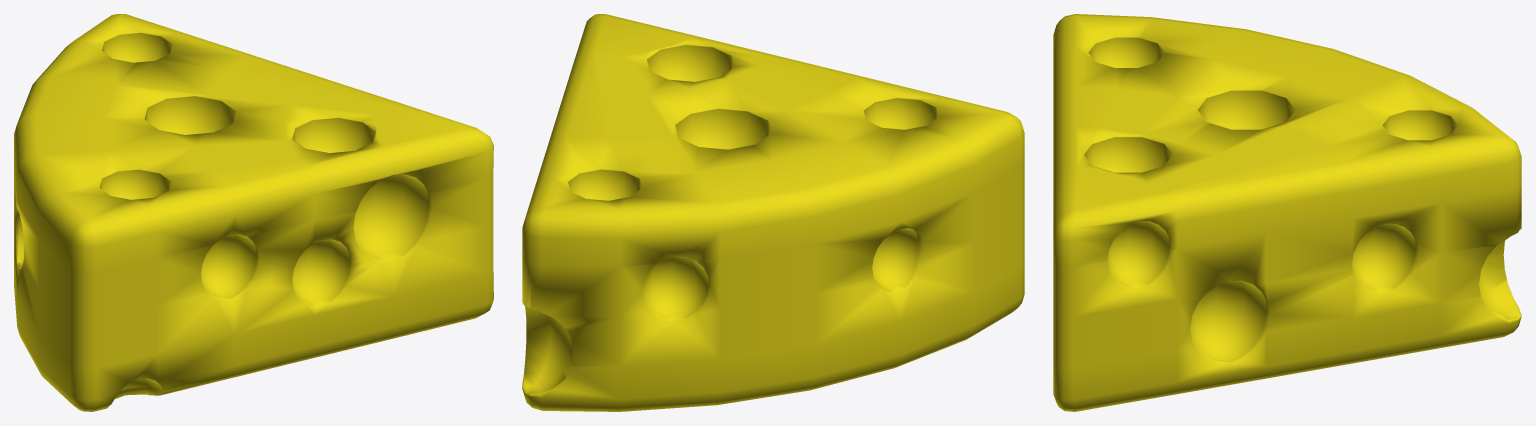
Rendered from cheese.glb.
3 renders of one model, left to right at view 1: azimuth 30°, elevation 25°; view 2: azimuth 150°, elevation 25°; view 3: azimuth 270°, elevation 25°, orthographic. The views are drawn at different scales.
Parts seen in each view (by area): view 1: Cheese; view 2: Cheese; view 3: Cheese.
Part boxes in pixels (x1,y1,x2,y2): Cheese: [14, 14, 493, 411]; Cheese: [522, 14, 1024, 411]; Cheese: [1053, 14, 1521, 411].
Bounding box in the file's own units: 2.29 × 1 × 2.12.
